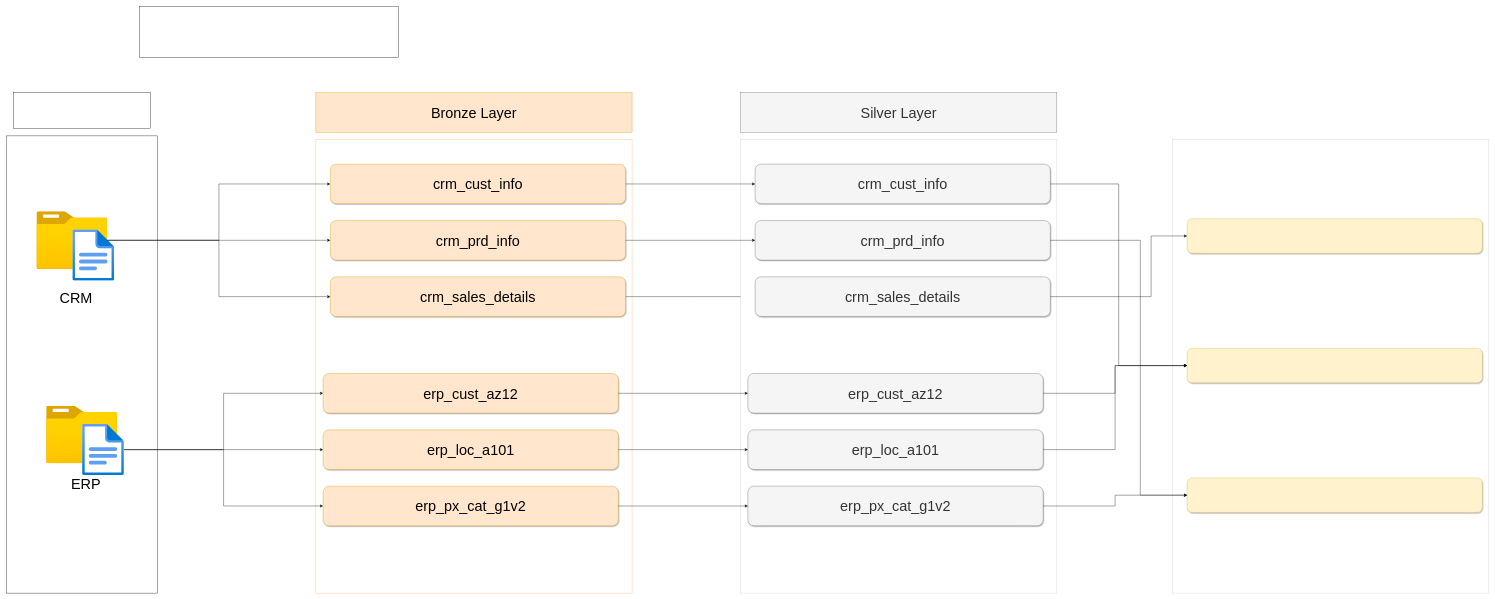
Some shapes in this 1495 by 599 pixel diagram are drawn without their labels. Here are the shapes that lost their labels. From the top down, the centre of each, then its label:
(x=269, y=32): DATA FLOW DIAGRAM
(x=81, y=110): Source
(x=1334, y=236): fact_sales
(x=1334, y=365): dim_customer
(x=1334, y=495): dim_product
